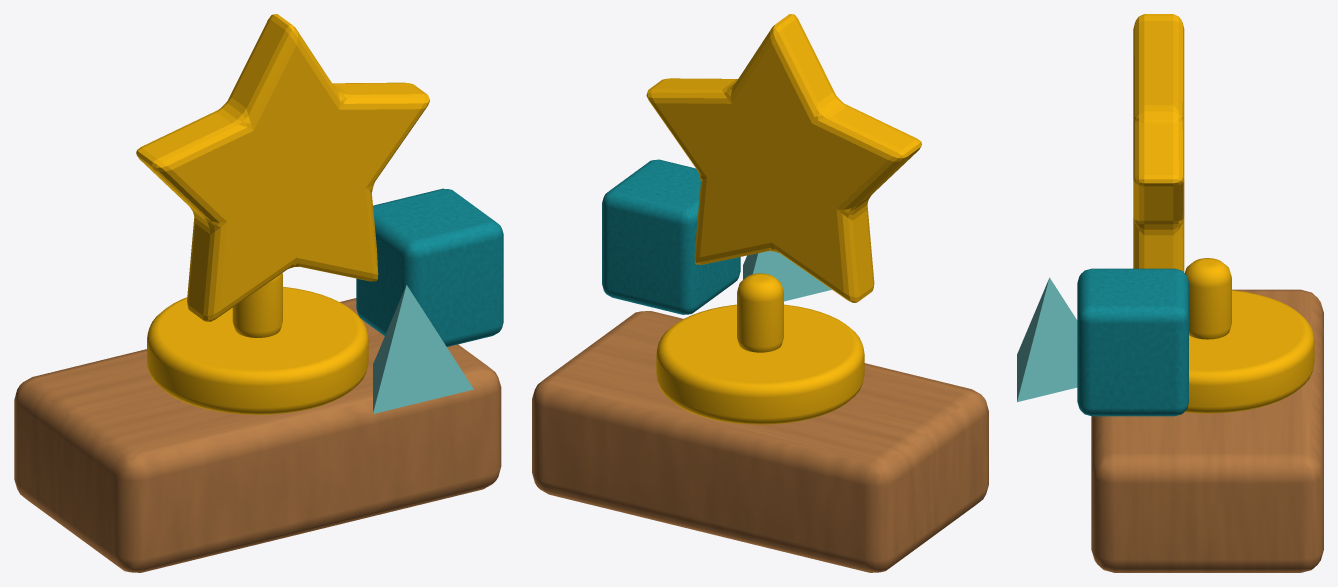
Rendered from display-math-star.glb.
3 renders of one model, left to right at view 1: azimuth 30°, elevation 25°; view 2: azimuth 150°, elevation 25°; view 3: azimuth 270°, elevation 25°, orthographic. The views are drawn at different scales.
Visible parts, largest first — view 1: Wooden award plinth.011, Star.005, Star foot.005, Math cube, Math prism, Star support.005; view 2: Wooden award plinth.011, Star.005, Star foot.005, Math cube, Star support.005, Math prism; view 3: Wooden award plinth.011, Math cube, Star.005, Star foot.005, Math prism, Star support.005.
Boxes of the visible parts, <box> form: Wooden award plinth.011: <box>14,298,501,572</box>; Star.005: <box>136,14,429,321</box>; Star foot.005: <box>147,287,368,414</box>; Math cube: <box>356,188,503,346</box>; Math prism: <box>373,285,473,413</box>; Star support.005: <box>232,273,282,337</box>; Wooden award plinth.011: <box>532,311,988,572</box>; Star.005: <box>646,14,921,302</box>; Star foot.005: <box>656,304,864,424</box>; Math cube: <box>602,159,740,314</box>; Star support.005: <box>737,273,783,352</box>; Math prism: <box>743,251,831,301</box>; Wooden award plinth.011: <box>1091,289,1323,572</box>; Math cube: <box>1077,268,1188,416</box>; Star.005: <box>1133,14,1184,272</box>; Star foot.005: <box>1184,290,1314,413</box>; Math prism: <box>1017,277,1077,402</box>; Star support.005: <box>1185,258,1231,339</box>.
Size of the model in its own units: 0.46 by 0.564 by 0.33.
4 materials, 2 textured.
